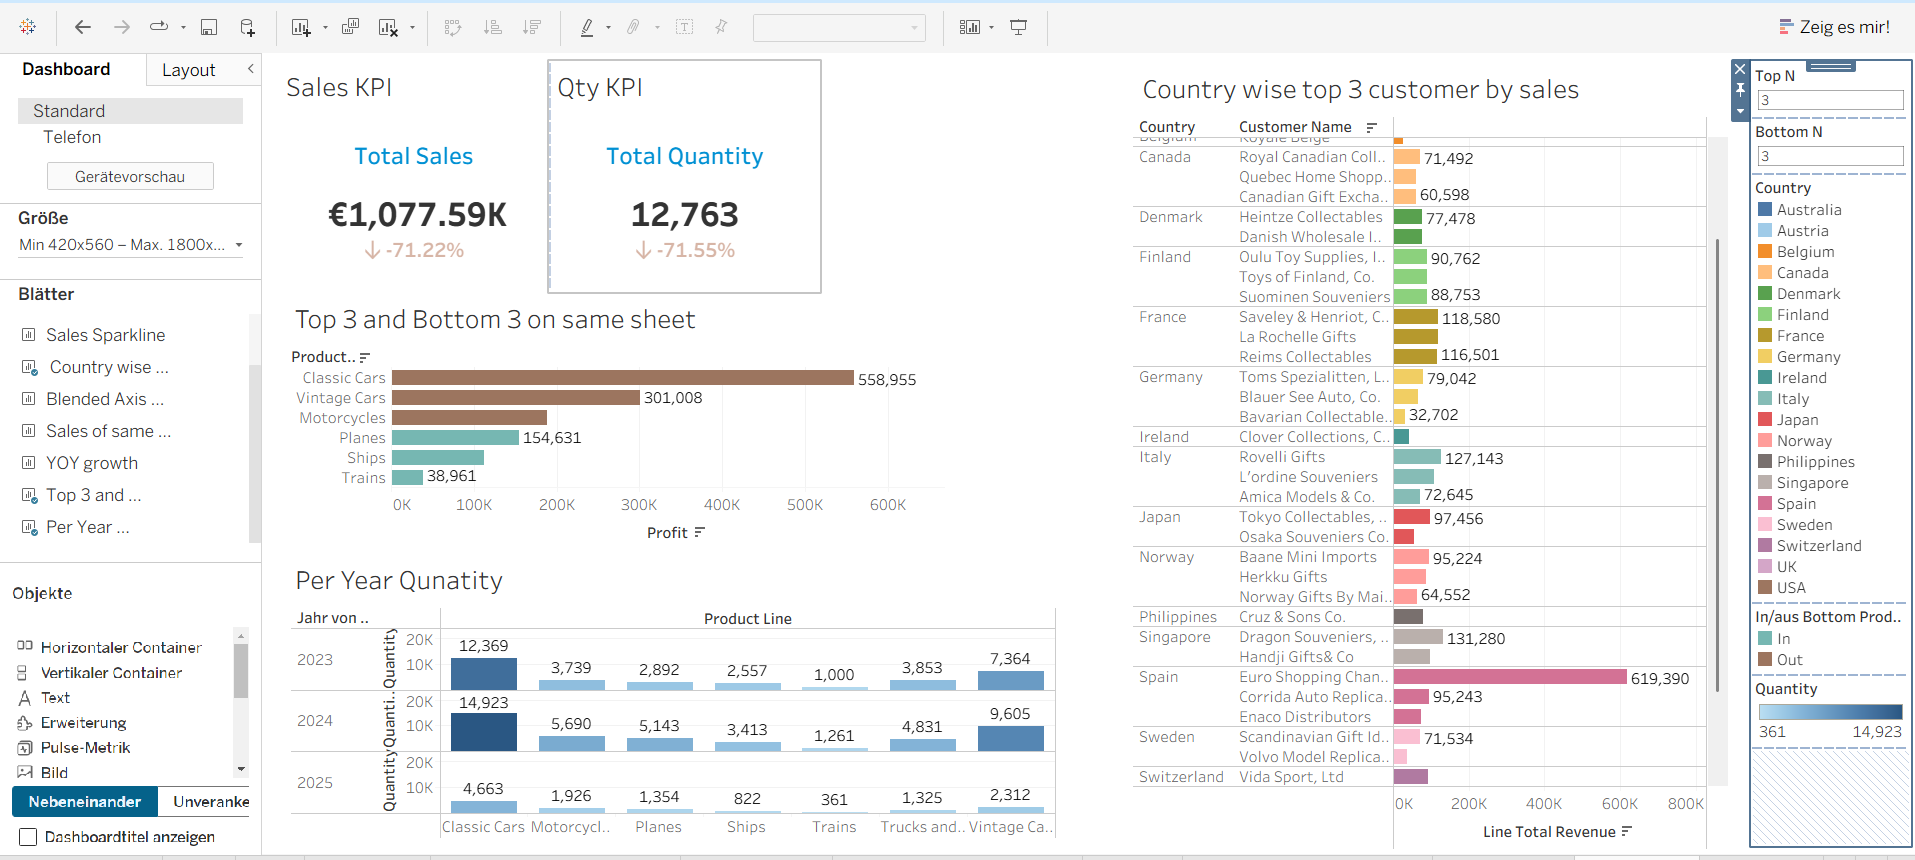

This screenshot's page, from the dashboard's own definition file:
{"tool":"tableau","page":{"name":"Dashboard 2","canvas":[1000,1000],"units":"permille","ordinal":0},"visuals":[{"type":"worksheet","title":"Sales KPI","mark":"Automatic","box":[9.7,10,163.6,288.4]},{"type":"worksheet","title":"Qty KPI","mark":"Automatic","box":[173.2,10,163.6,288.4]},{"type":"parameter","param":"[Parameters].[Parameter 1]","box":[898.6,10,96.6,69.9]},{"type":"worksheet","title":" Country wise top 3 customer by sales","mark":"Automatic","rows":["country","customer_name"],"cols":["line_total_revenue"],"box":[523.2,12.5,363.9,987.5]},{"type":"parameter","param":"[Parameters].[Top N (Kopie)_1080019532573077524]","box":[898.6,79.9,96.6,69.9]},{"type":"legend","title":" Country wise top 3 customer by sales","param":"[federated.0d84w0t0r939hr1h1g0mb0at0amq].[none:country:nk]","box":[898.6,149.8,96.6,535.6]},{"type":"worksheet","title":"Top 3 and Bottom 3 on same sheet","mark":"Automatic","rows":["product_line"],"cols":["Calculation_1080019532531769356"],"box":[15.1,299.6,466.5,325.9]},{"type":"worksheet","title":"Per Year Qunatity","mark":"Automatic","rows":["Calculation_1080019532552503311","quantity"],"cols":["product_line"],"box":[15.1,625.5,466.5,360.8]},{"type":"legend","title":"Top 3 and Bottom 3 on same sheet","param":"[federated.0d84w0t0r939hr1h1g0mb0at0amq].[io:Top Product by Profit (Kopie):nk]","box":[898.6,685.4,96.6,89.9]},{"type":"legend","title":"Per Year Qunatity","param":"[federated.0d84w0t0r939hr1h1g0mb0at0amq].[sum:quantity:qk]","box":[898.6,775.3,96.6,91.1]}]}

Visuals, with their boxes on the dashboard's canvas, which has no fixed pixel size, in thousandths of its width and height (x1, y1, x2, y2). These are canvas units, not pixel positions in the 1915x860 screenshot, which may show the page scaled, cropped or inside an application window:
"Sales KPI" worksheet: (10,10,173,298)
"Qty KPI" worksheet: (173,10,337,298)
parameter: (899,10,995,80)
" Country wise top 3 customer by sales" worksheet: (523,12,887,1000)
parameter: (899,80,995,150)
" Country wise top 3 customer by sales" legend: (899,150,995,685)
"Top 3 and Bottom 3 on same sheet" worksheet: (15,300,482,626)
"Per Year Qunatity" worksheet: (15,626,482,986)
"Top 3 and Bottom 3 on same sheet" legend: (899,685,995,775)
"Per Year Qunatity" legend: (899,775,995,866)
